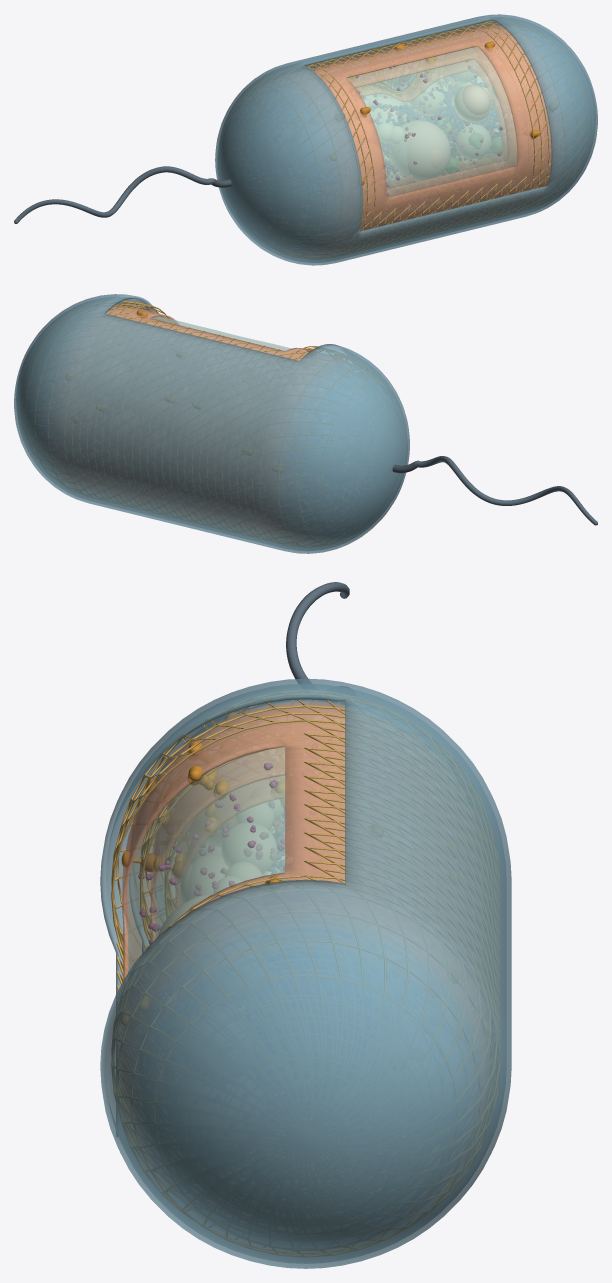
Rendered from prokaryote-674a63a56503.glb.
3 views of the same model, one above another, from view 1: azimuth 30°, elevation 25°; view 2: azimuth 150°, elevation 25°; view 3: azimuth 270°, elevation 25° (orthographic). The views are drawn at different scales.
Visible parts, largest first — view 1: slot:envelope (×3), slot:cell_body (×3), slot:storage_granule:right, slot:flagellum, slot:storage_granule:left, slot:nucleoid, slot:carboxysome:right, slot:membrane_complex:right; view 2: slot:envelope (×2), slot:flagellum, slot:cell_body; view 3: slot:envelope (×3), slot:cell_body (×2), slot:storage_granule:right (×3), slot:flagellum, slot:membrane_complex:right, slot:ribosome:right.
Boxes of the visible parts, x1,y1,x2,y2 form: slot:envelope (×3): (215,14,597,265); slot:cell_body (×3): (347,46,517,197); slot:storage_granule:right: (383,81,504,180); slot:flagellum: (14,166,231,223); slot:storage_granule:left: (370,71,491,126); slot:nucleoid: (370,89,496,170); slot:carboxysome:right: (435,119,501,154); slot:membrane_complex:right: (330,41,558,185); slot:envelope (×2): (14,294,409,553); slot:flagellum: (392,456,597,525); slot:cell_body: (151,316,291,350); slot:envelope (×3): (100,678,511,1268); slot:cell_body (×2): (127,747,285,972); slot:storage_granule:right (×3): (158,785,283,936); slot:flagellum: (286,582,350,688); slot:membrane_complex:right: (121,712,280,1026); slot:ribosome:right: (138,762,285,944).
Bounding box in the file's own units: 3.64 × 1.16 × 1.16.
